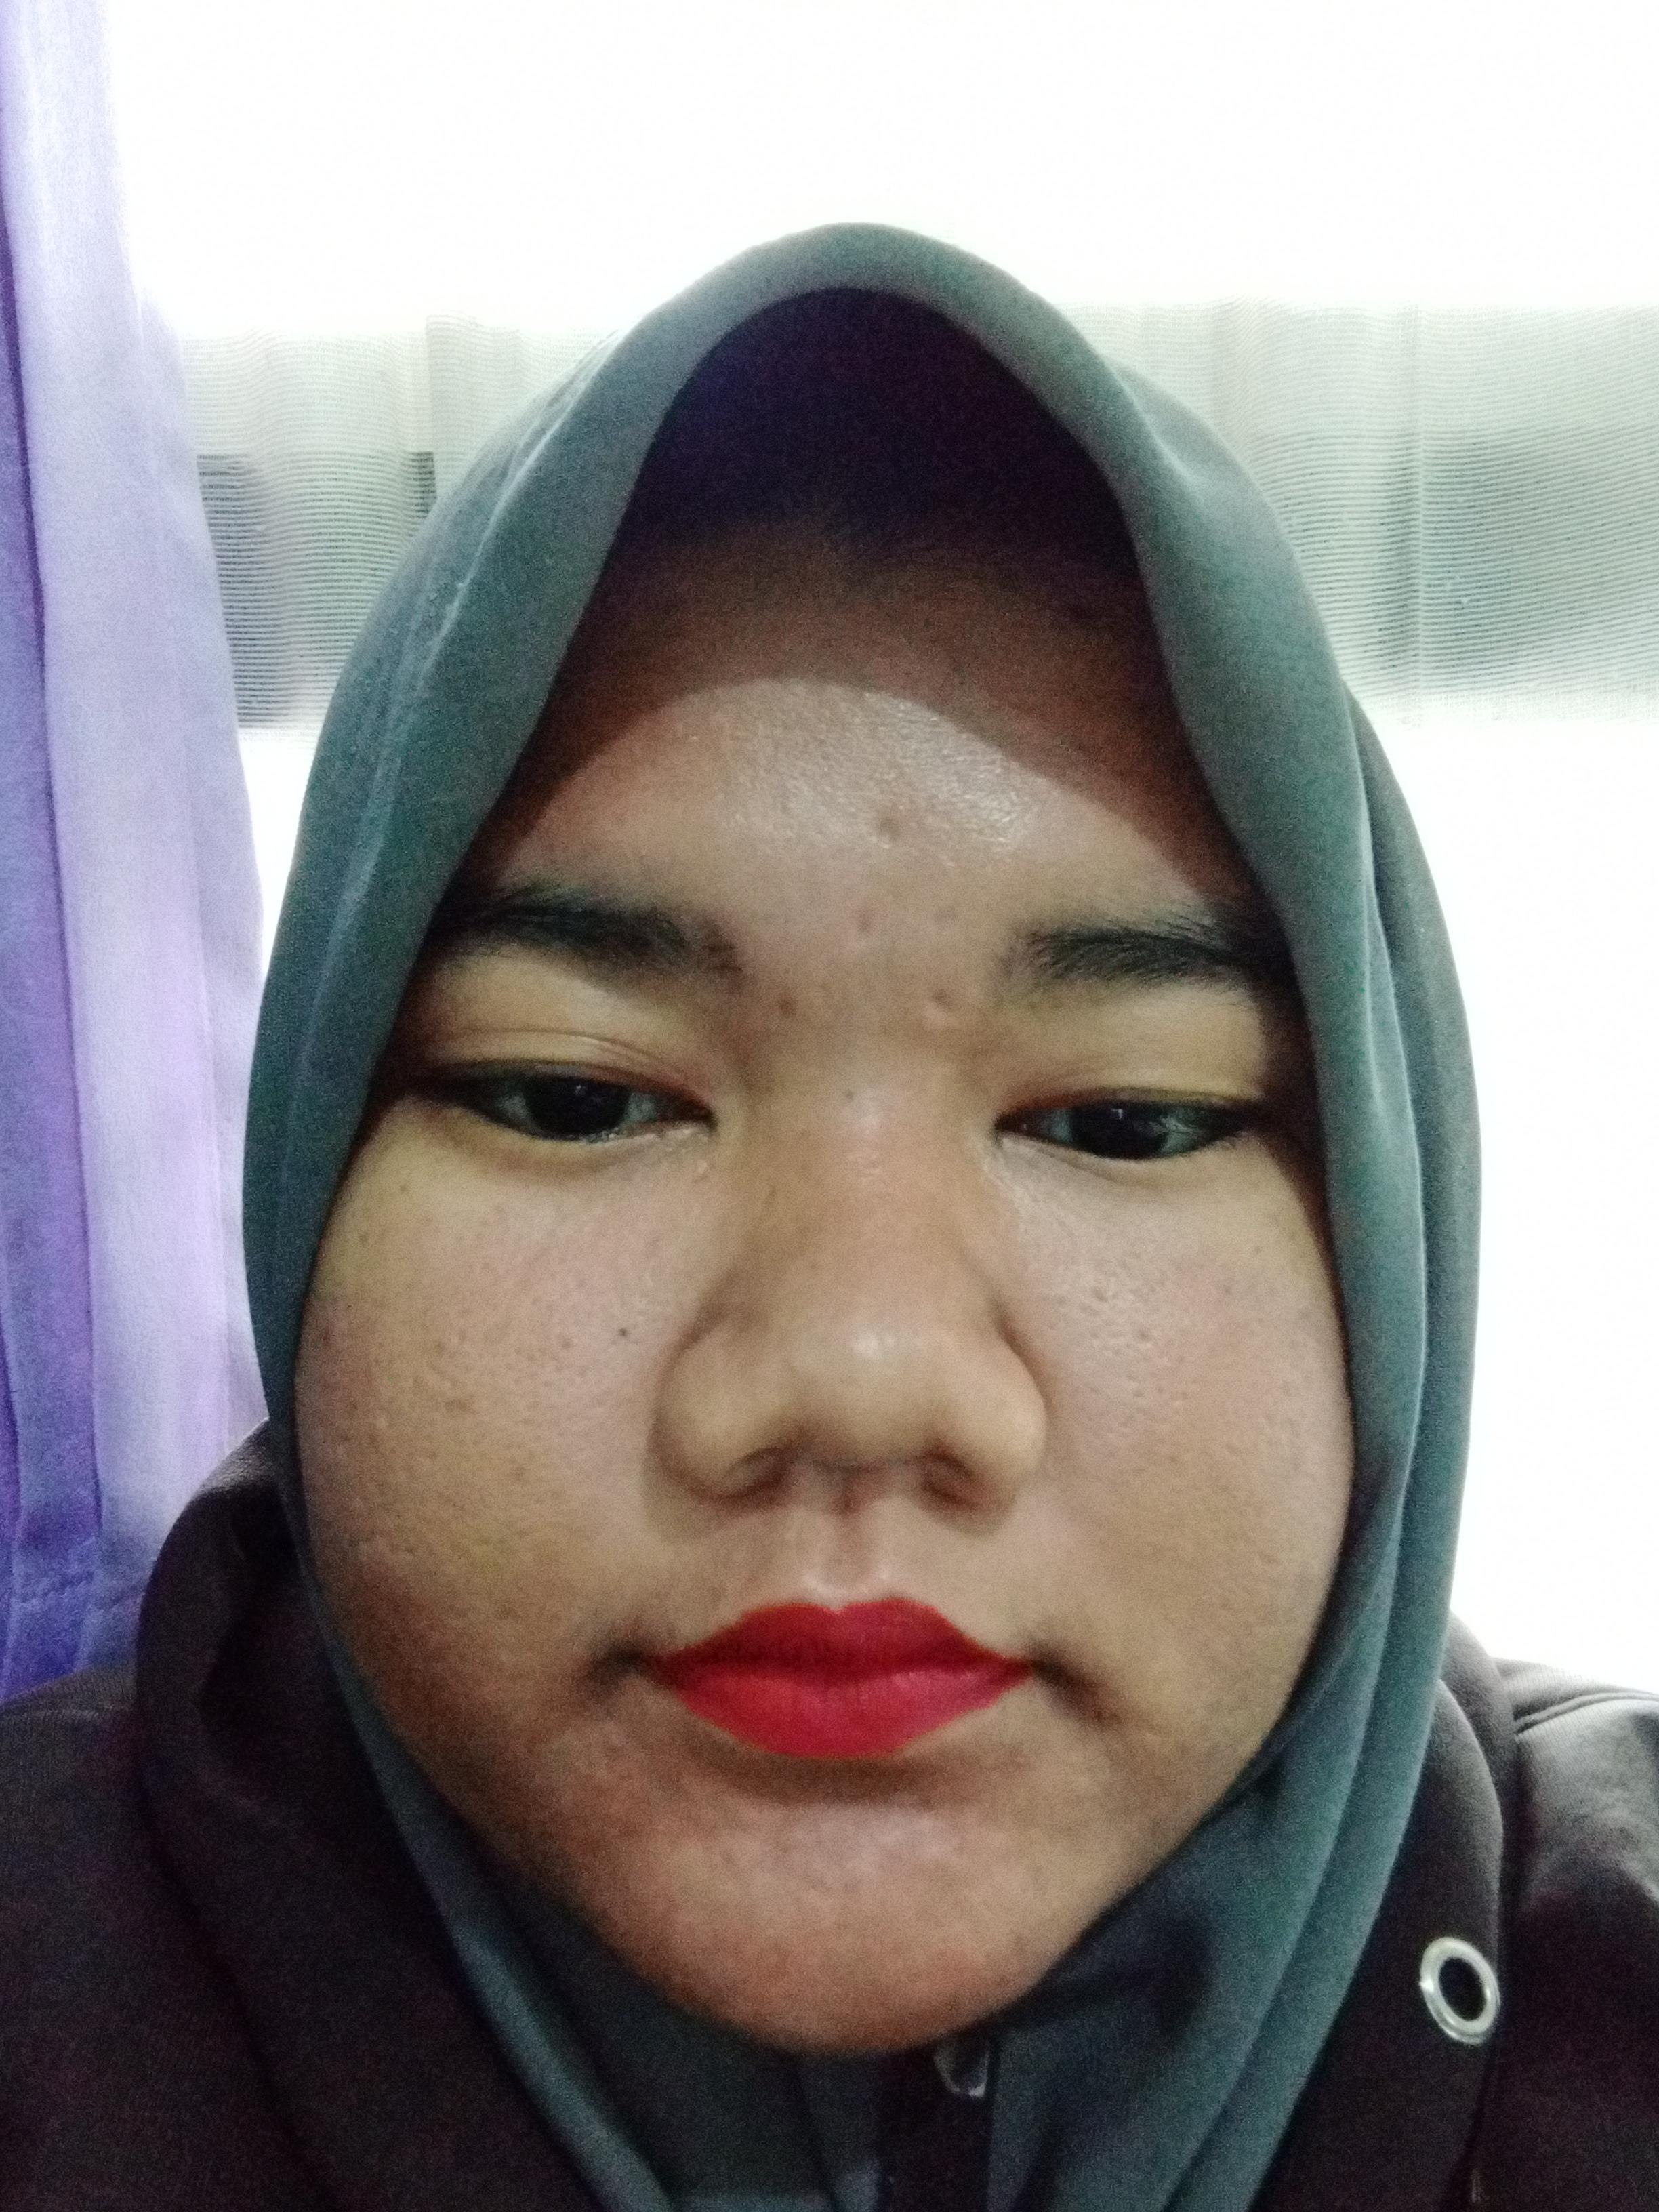Englarged-Pores: (1040, 1252, 1316, 1524), (368, 1332, 626, 1571)
